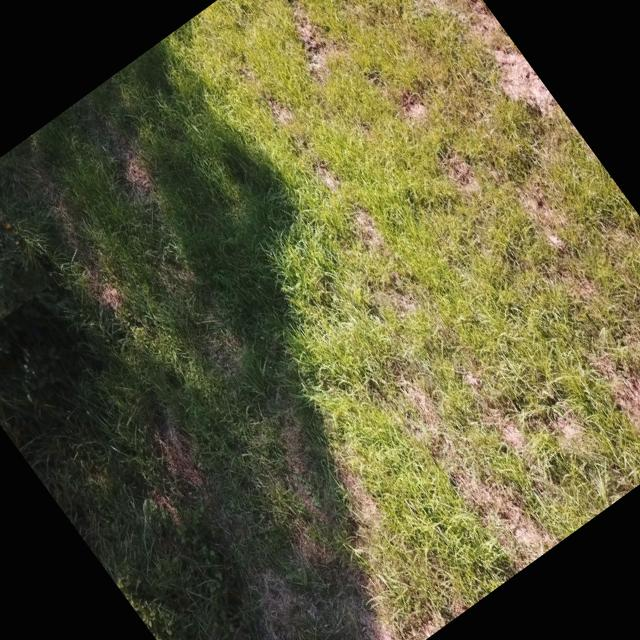Mysore-Thorn-Weed: (0, 174, 54, 356)
